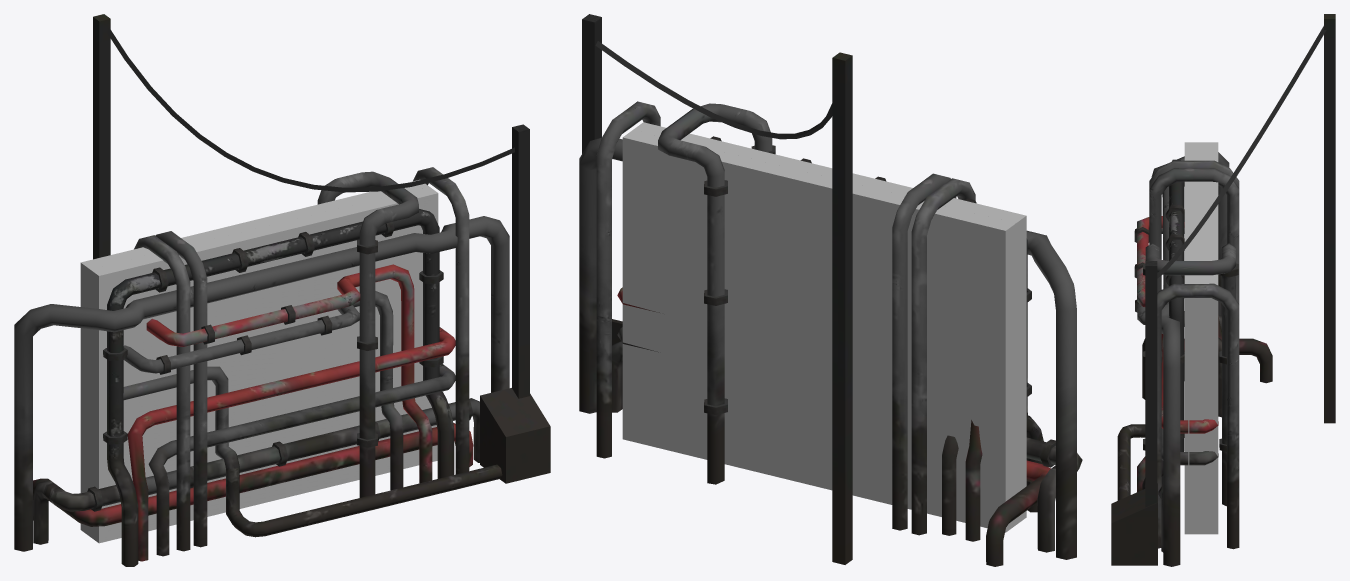
The model's file is Pipe_Wall.glb.
3 views of the same model, side by side, from view 1: azimuth 30°, elevation 25°; view 2: azimuth 150°, elevation 25°; view 3: azimuth 270°, elevation 25° (orthographic). The views are drawn at different scales.
Parts seen in each view (by area): view 1: Pipe_Wall; view 2: Pipe_Wall; view 3: Pipe_Wall.
Part boxes in pixels (x1=…): Pipe_Wall: x1=14, y1=14, x2=550, y2=566; Pipe_Wall: x1=579, y1=14, x2=1082, y2=566; Pipe_Wall: x1=1111, y1=14, x2=1335, y2=566.
Size of the model in its own units: 5.6 by 5.15 by 2.53.
Materials: 2 (1 with a texture image).
